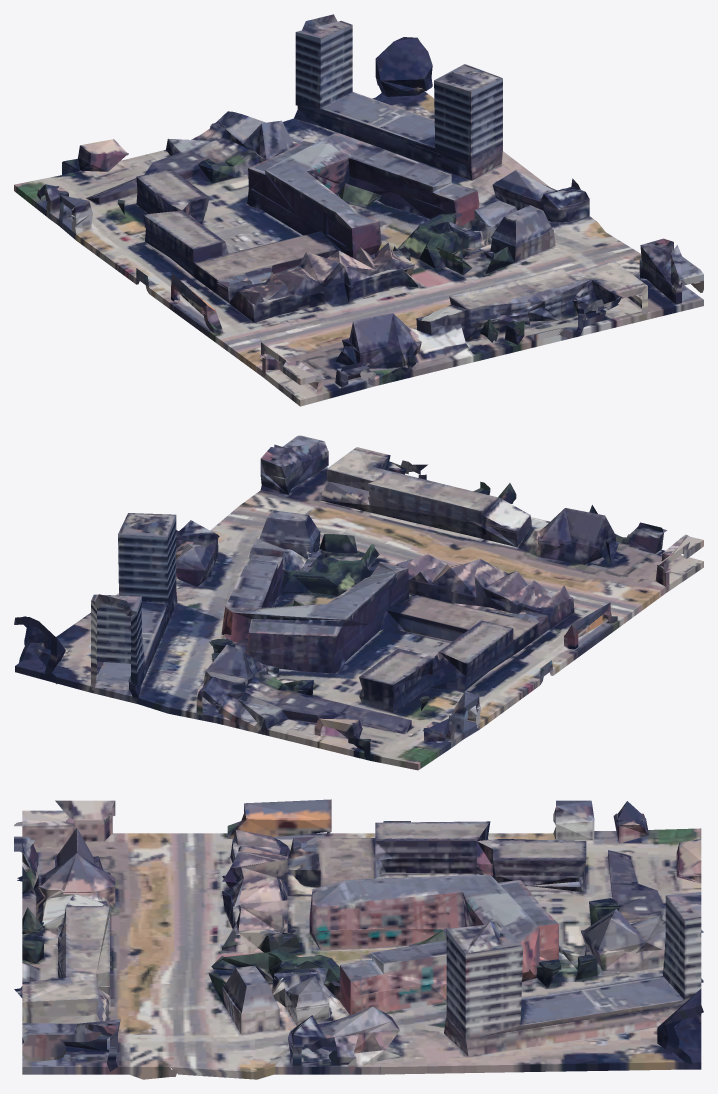
Rendered from latestTesting.fbx.
3 renders of one model, top to bottom at view 1: azimuth 30°, elevation 25°; view 2: azimuth 150°, elevation 25°; view 3: azimuth 270°, elevation 25°, orthographic. The views are drawn at different scales.
Visible parts, largest first — view 1: BuildingMesh-00359; view 2: BuildingMesh-00359; view 3: BuildingMesh-00359.
Boxes of the visible parts, bbox=[...] form: BuildingMesh-00359: bbox=[14, 14, 703, 406]; BuildingMesh-00359: bbox=[14, 435, 703, 770]; BuildingMesh-00359: bbox=[14, 799, 703, 1079].
Size of the model in its own units: 853 by 211 by 1039.
4 materials, 4 textured.
